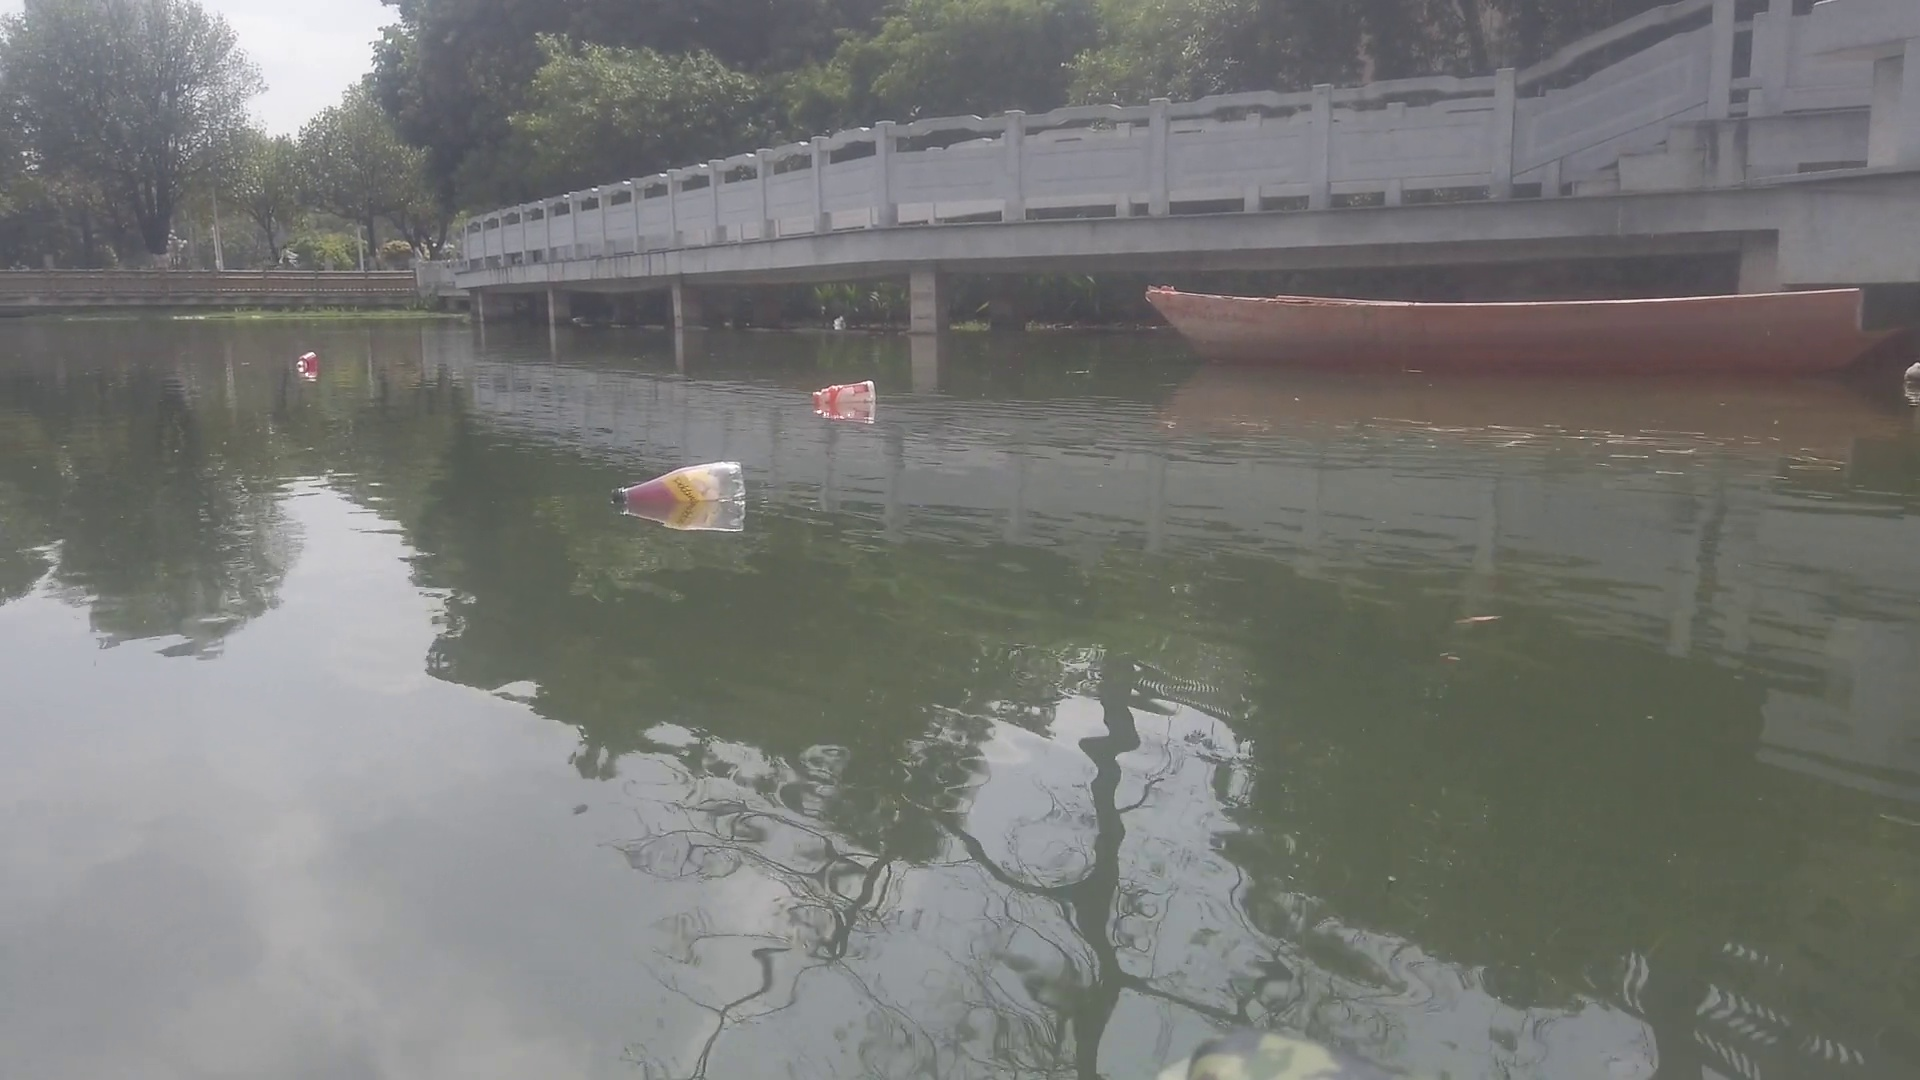bottle: (607, 454, 756, 502), (810, 376, 881, 407), (295, 348, 323, 373)
